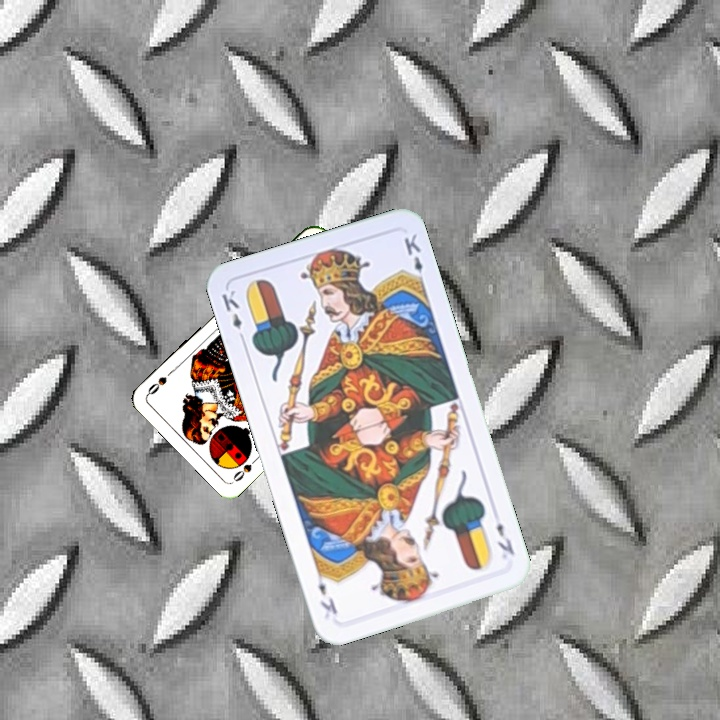EK: (217, 286, 248, 345), (492, 518, 517, 558)
SO: (229, 453, 261, 485)
